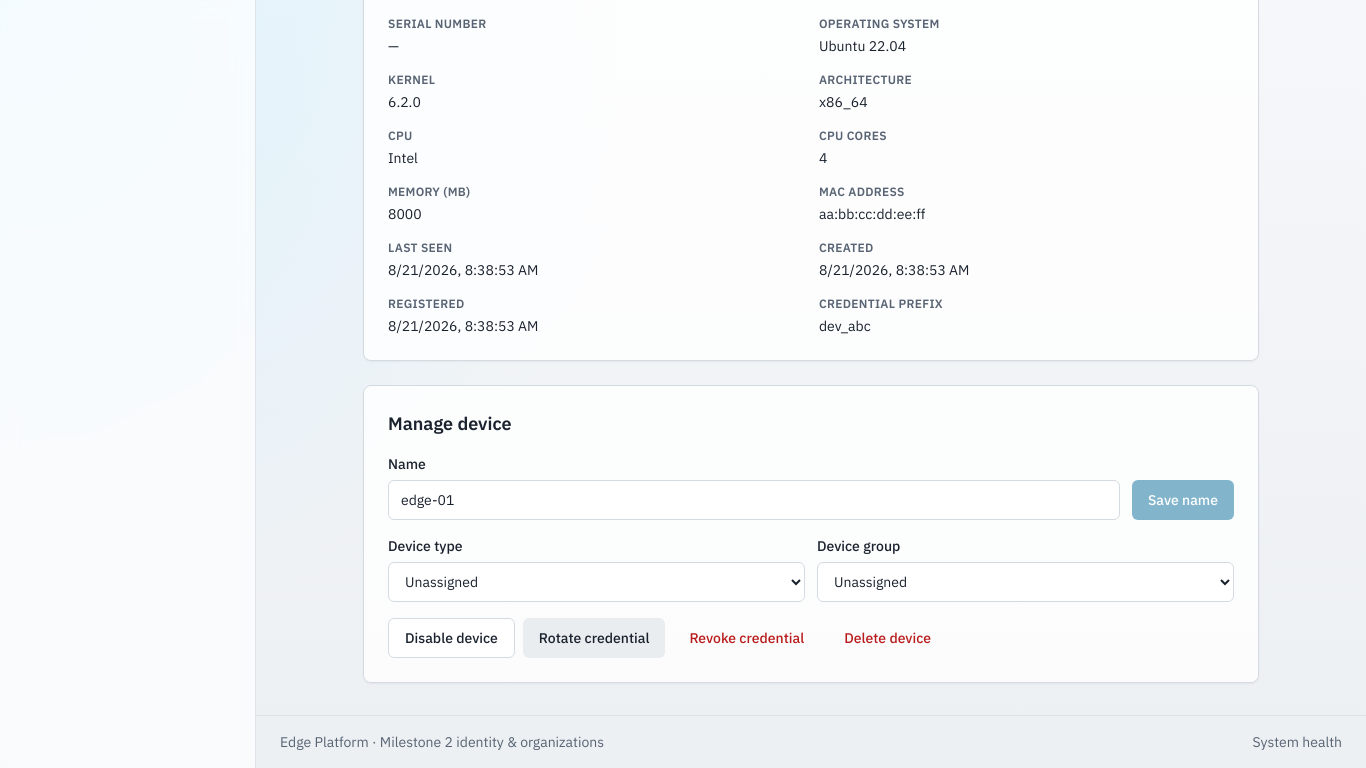
Scenario: Device detail › rotates the credential and shows it once
The image size is (1366, 768).
(page scrolled)
Click the button "Rotate credential".
click(594, 638)  # box [523,618,665,658]
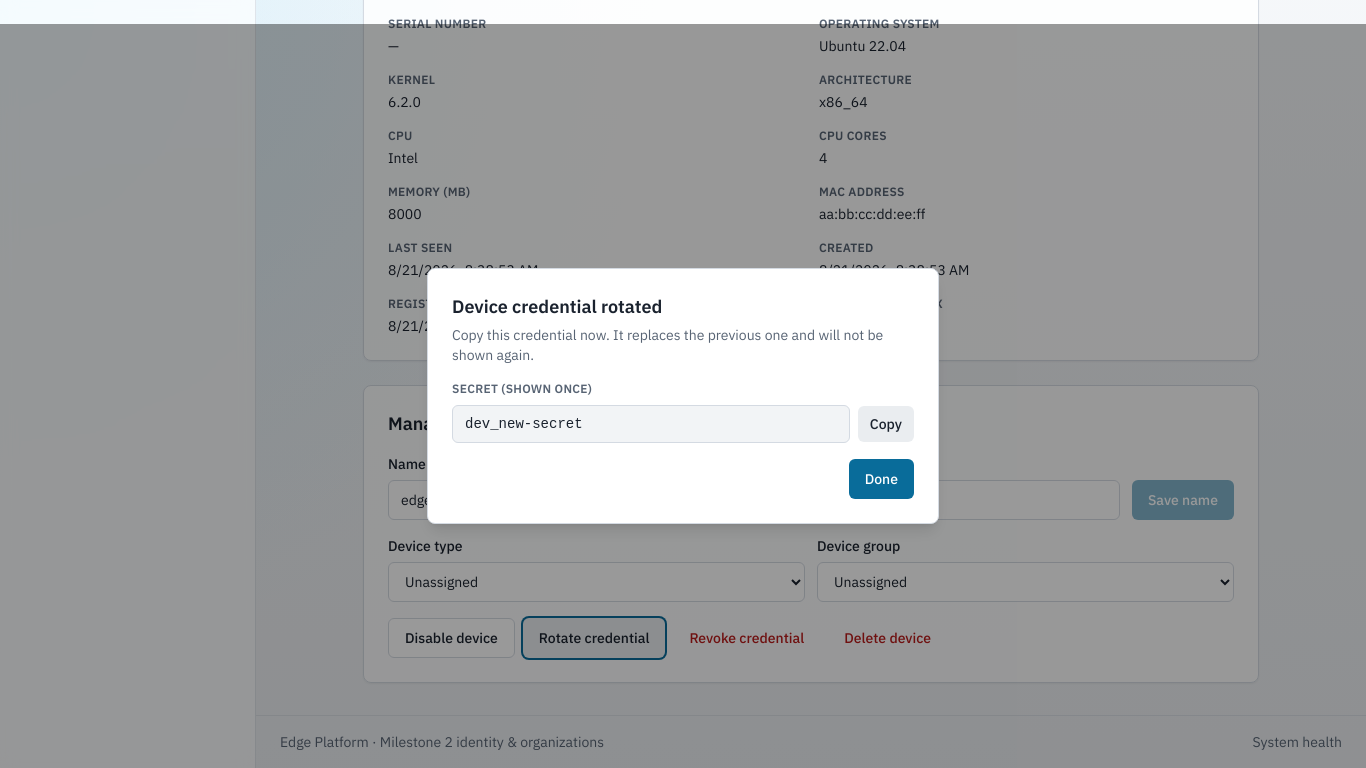
Check: the text "dev_new-secret" is shown, box [452,405,850,443]
